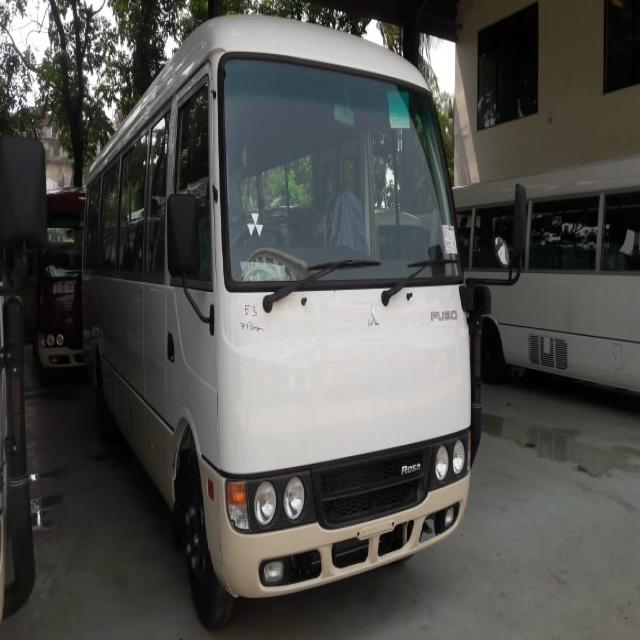bus: (88, 0, 494, 640)
